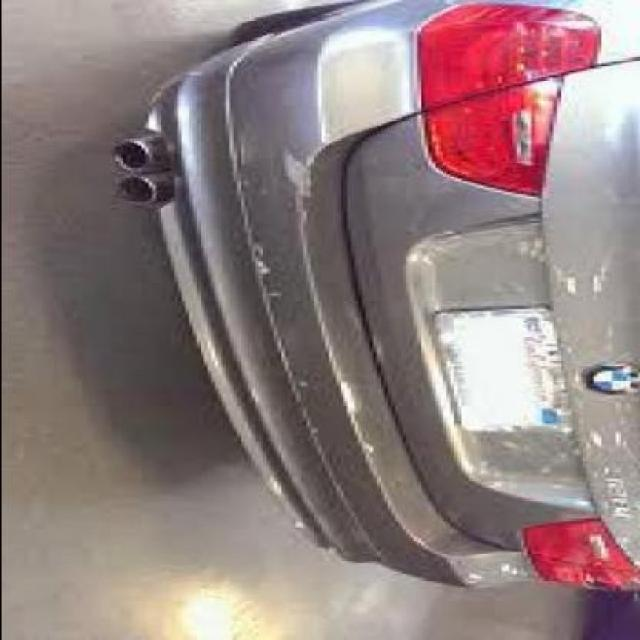damage: (269, 151, 323, 223), (243, 247, 281, 305), (505, 236, 557, 270), (450, 561, 515, 588), (557, 268, 608, 300), (331, 375, 360, 421), (582, 428, 628, 452), (261, 475, 289, 499), (354, 438, 379, 462)
